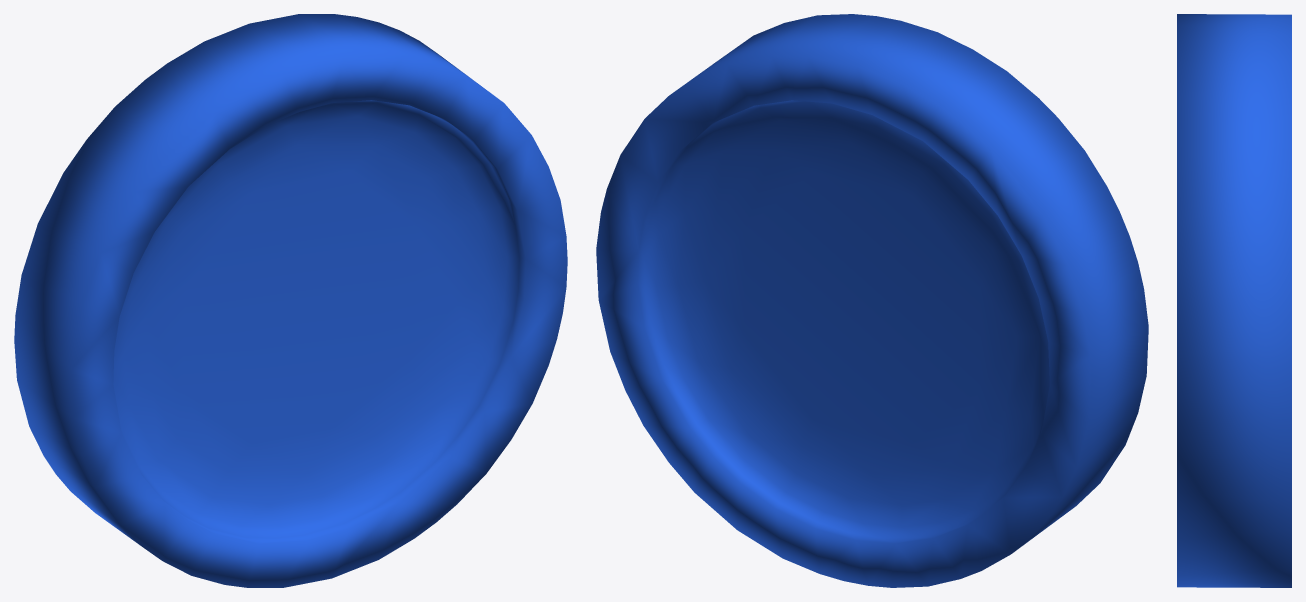
Rendered from token_v1.glb.
The picture shows the model from 3 angles, left to right: view 1: azimuth 30°, elevation 25°; view 2: azimuth 150°, elevation 25°; view 3: azimuth 270°, elevation 25°; orthographic projection.
Visible parts, largest first — view 1: base; view 2: base; view 3: base.
Boxes of the visible parts, box(x1,y1,x2,y2) form: base: box(14, 14, 567, 587); base: box(596, 14, 1148, 587); base: box(1177, 14, 1291, 587).
Bounding box in the file's own units: 30 × 30 × 6.
